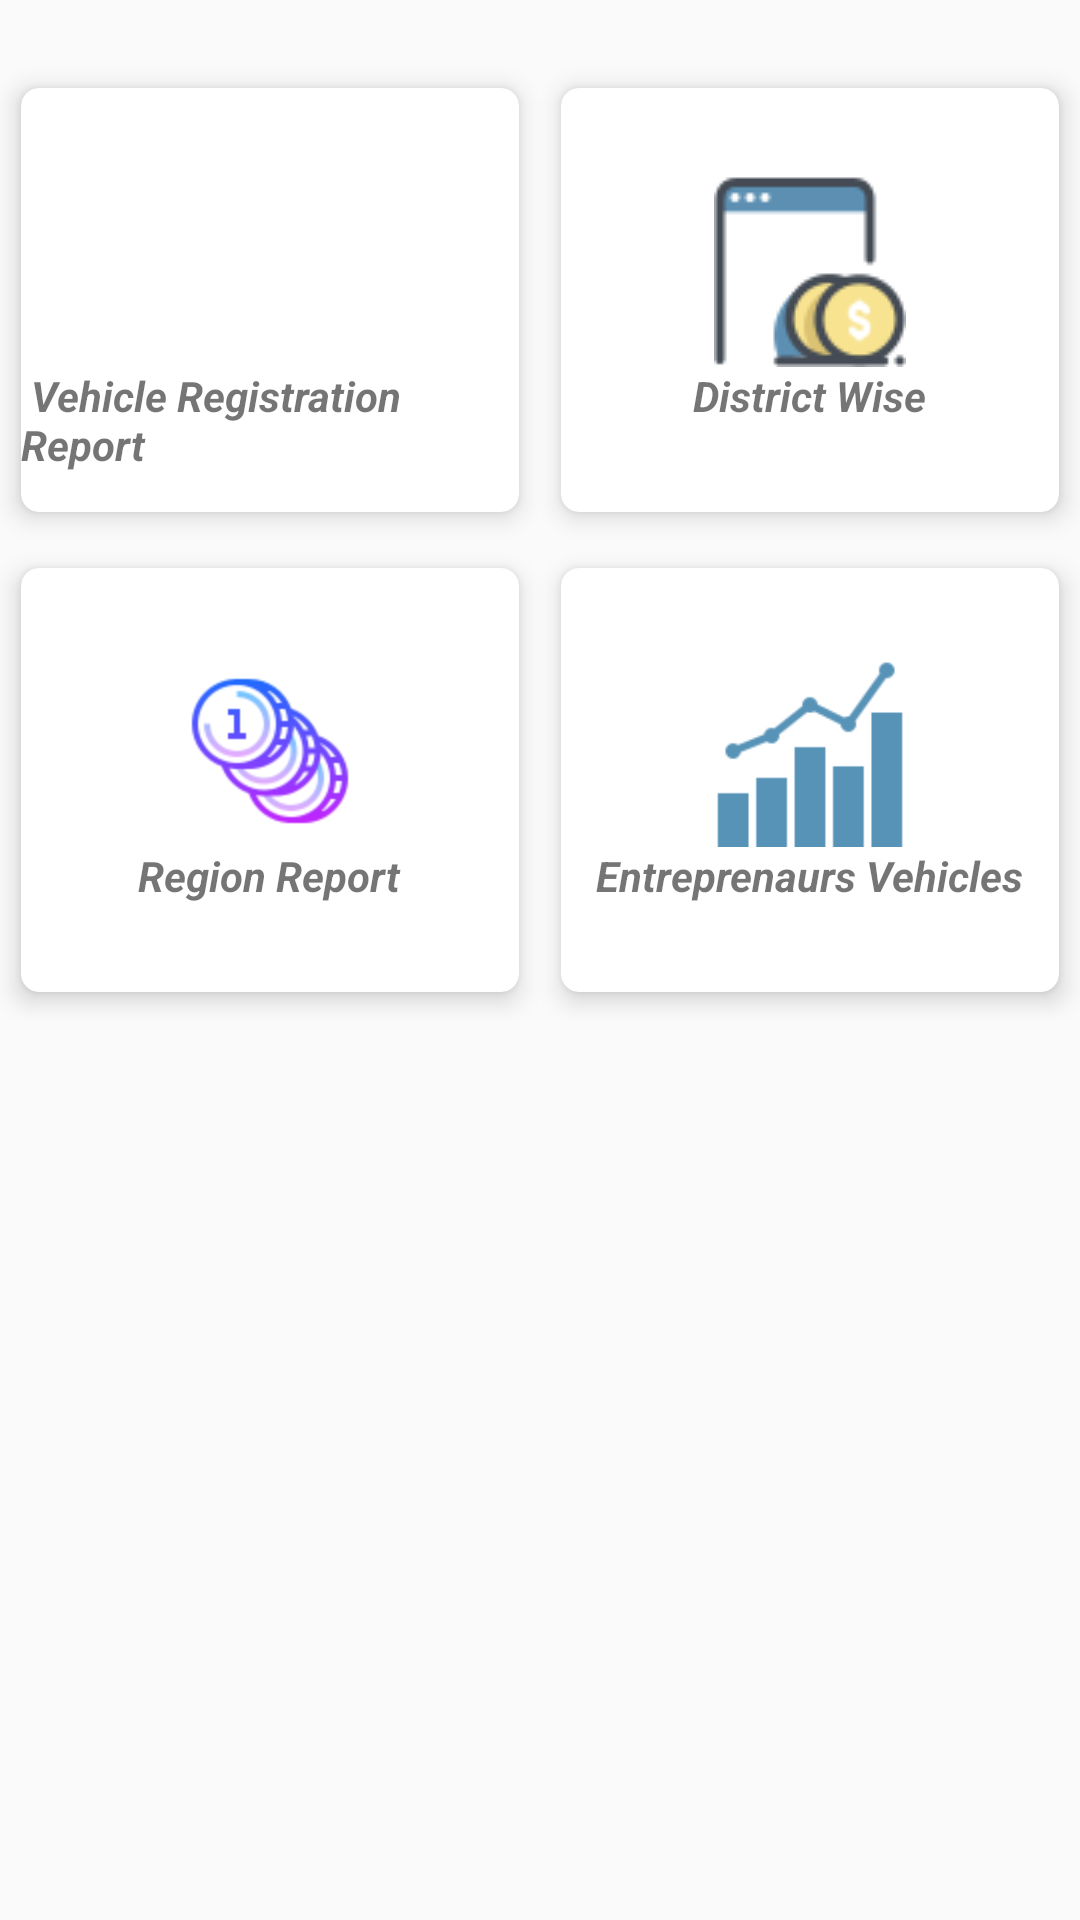

Locate icon controls on the screen. Image size 1080*1920, boxes as (x1, y1, x2, y2).
dashboard: (717, 662, 903, 847)
